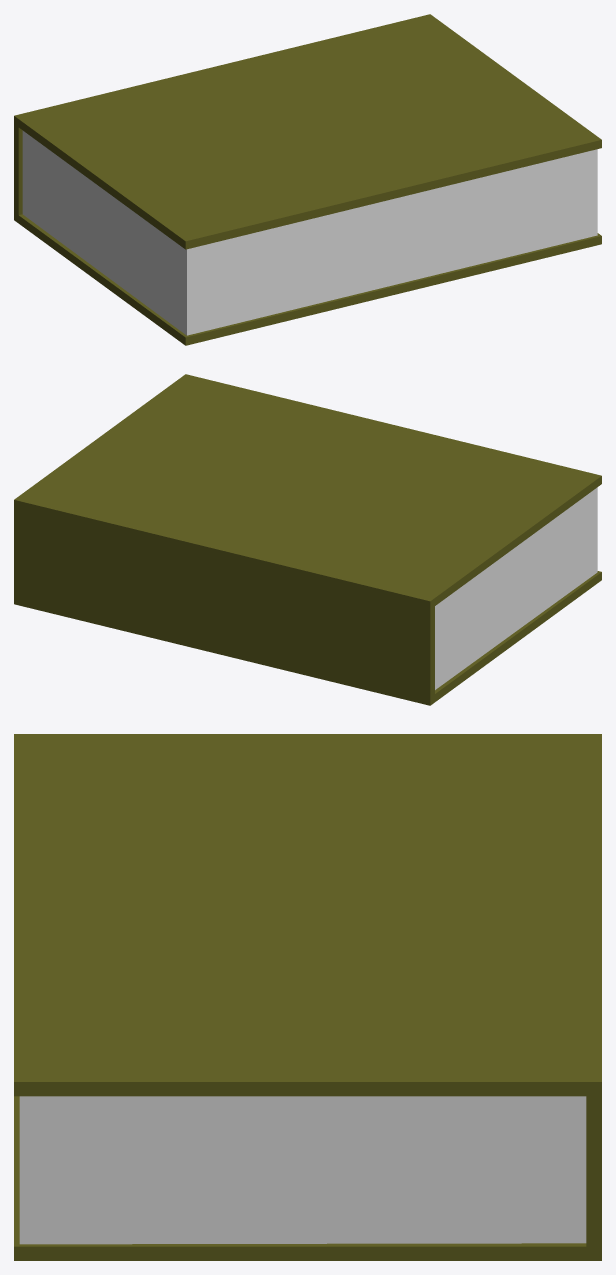
File: ThrowProp_BookLargeGreen.FBX
3 views of the same model, one above another, from view 1: azimuth 30°, elevation 25°; view 2: azimuth 150°, elevation 25°; view 3: azimuth 270°, elevation 25° (orthographic). The views are drawn at different scales.
Parts seen in each view (by area): view 1: Book_LargeGreen; view 2: Book_LargeGreen; view 3: Book_LargeGreen.
Part boxes in pixels (x1,y1,x2,y2): Book_LargeGreen: [14, 14, 601, 345]; Book_LargeGreen: [14, 374, 601, 705]; Book_LargeGreen: [14, 734, 601, 1260].
Size of the model in its own units: 21 by 5.04 by 15.
Materials: 1 (1 with a texture image).
